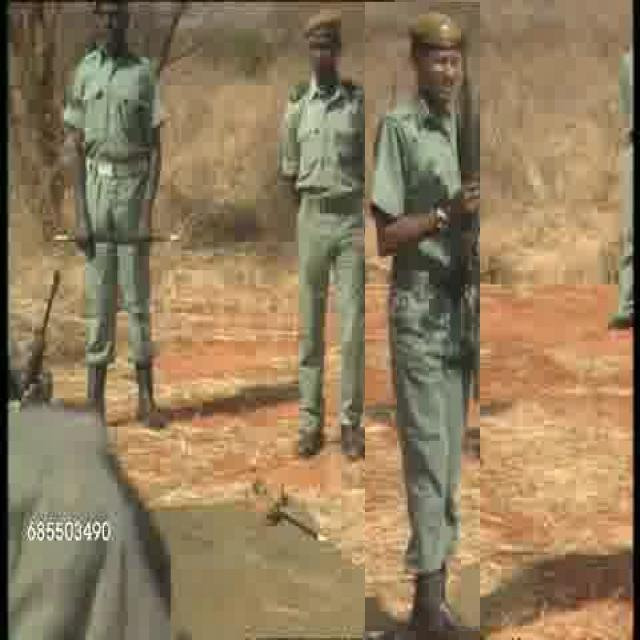poacher: (365, 2, 480, 631), (64, 2, 178, 425), (275, 1, 368, 454)
weapon: (370, 38, 390, 372)
